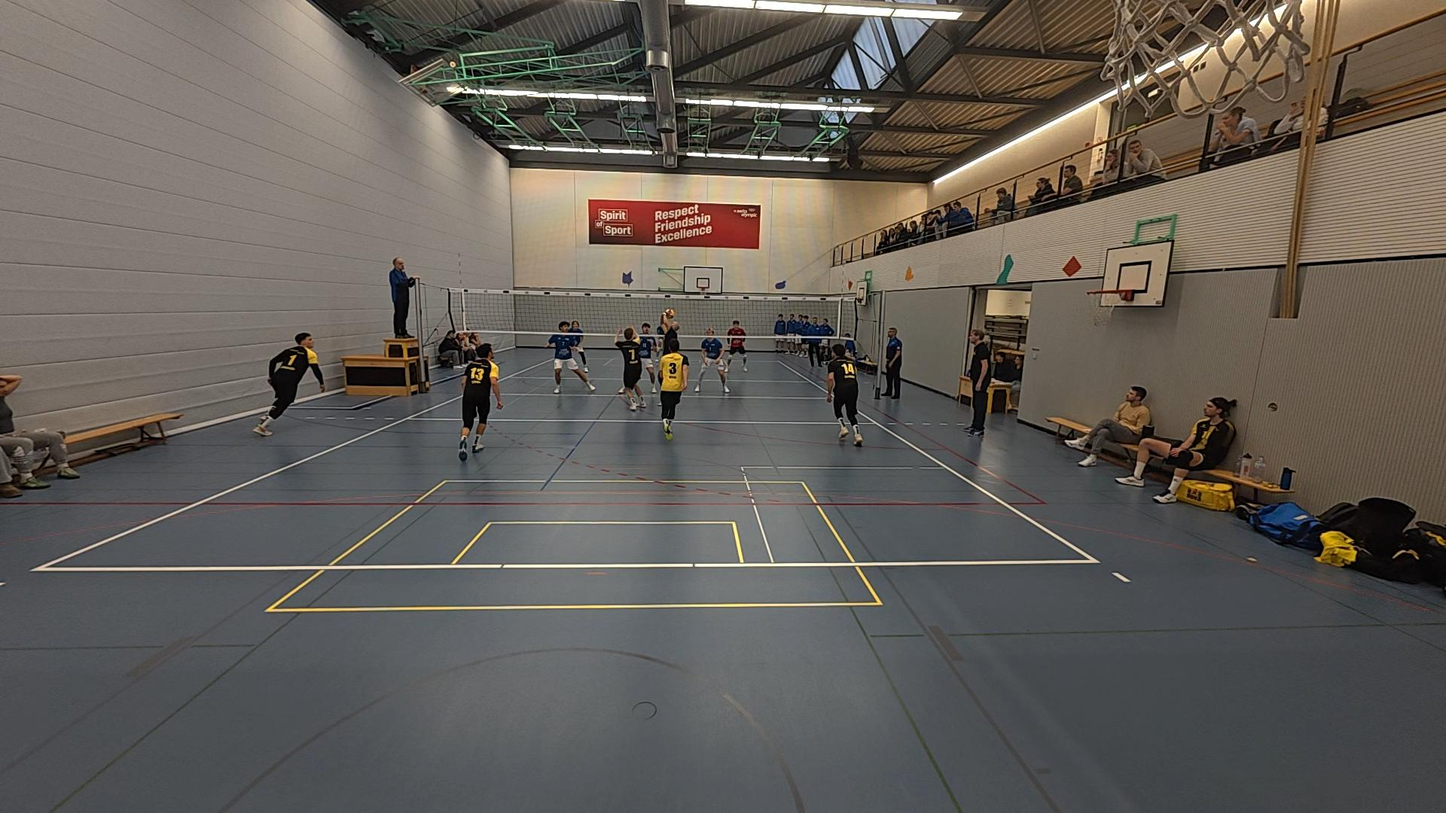Player: (253, 333, 329, 437), (457, 343, 503, 460), (825, 345, 864, 447), (652, 339, 688, 438), (550, 321, 595, 393), (617, 318, 658, 394), (612, 325, 648, 411), (696, 327, 731, 393), (565, 320, 592, 370), (725, 318, 749, 370)
Set: (655, 306, 682, 361)
ball: (660, 308, 676, 319)
